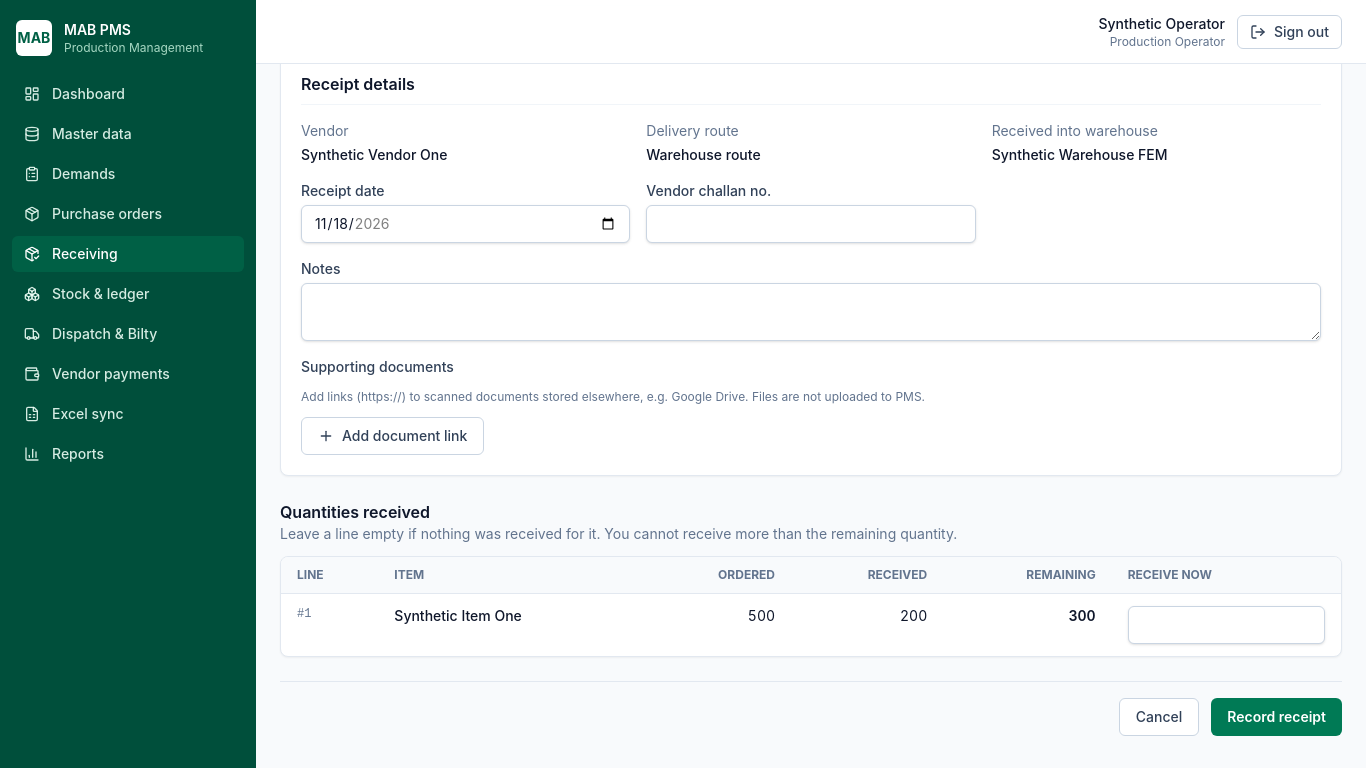
Test case: Receipt form › shows server validation details next to the line
The image size is (1366, 768).
(page scrolled)
Type "10" into the number field named "Line 1 quantity to receive". click: (1226, 625)
box: [1128,606,1325,644]
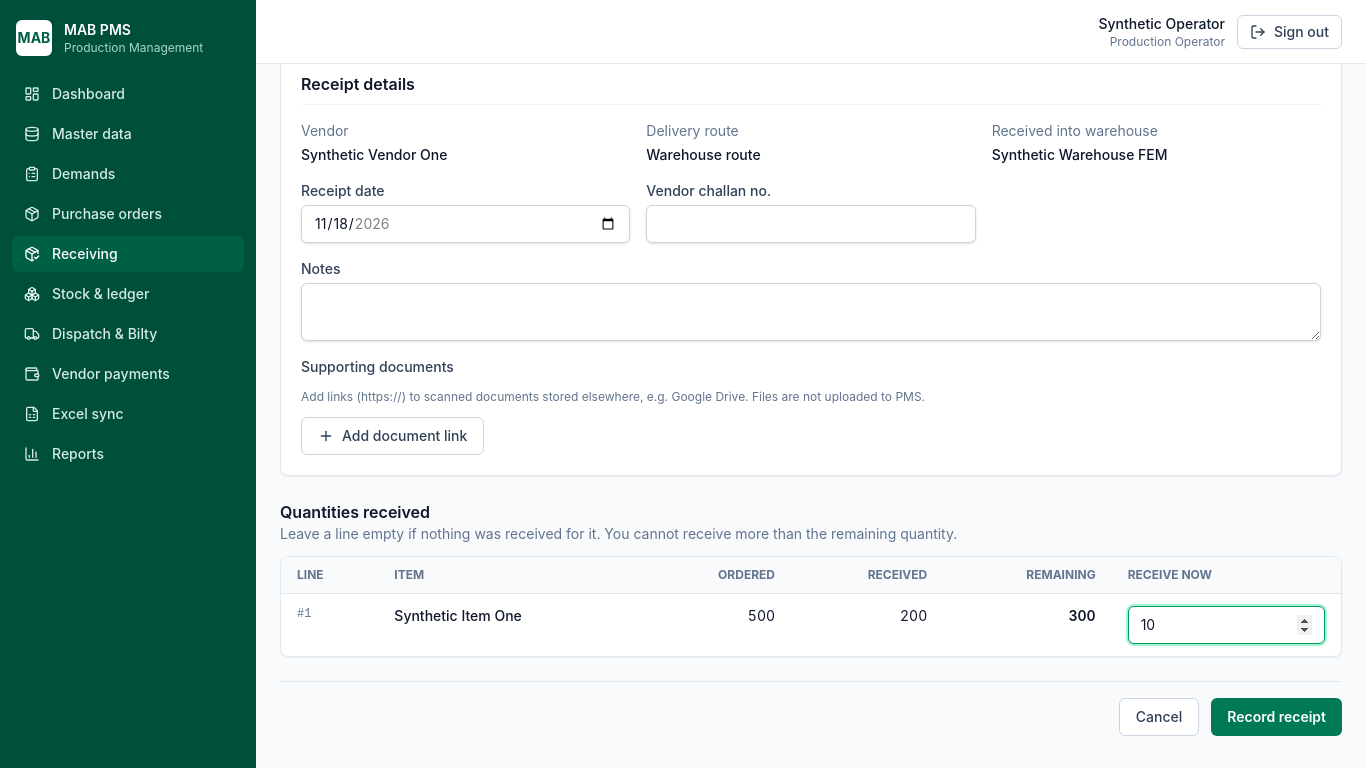
Click the button "Record receipt". click: (1277, 717)
box: [1211,698,1342,736]
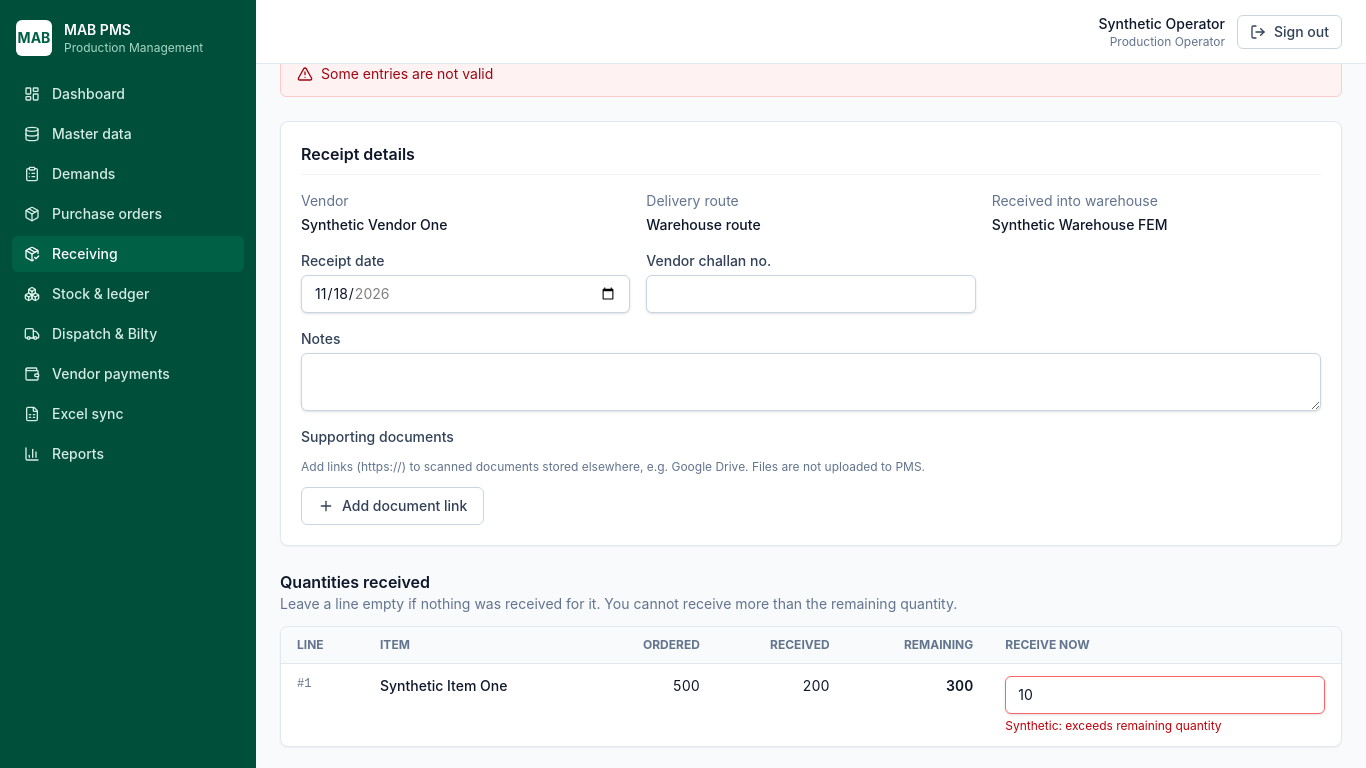
Check: the text "Synthetic: exceeds remaining quantity" is shown, box [1005,718,1222,733]
